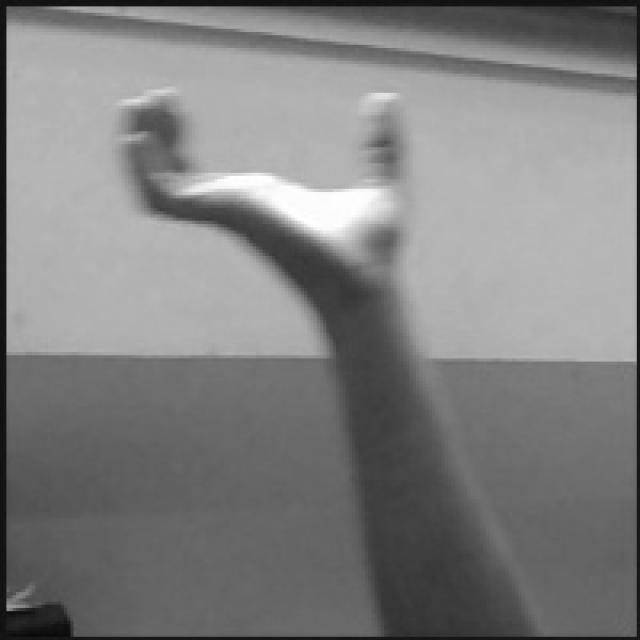space: (118, 78, 412, 302)
